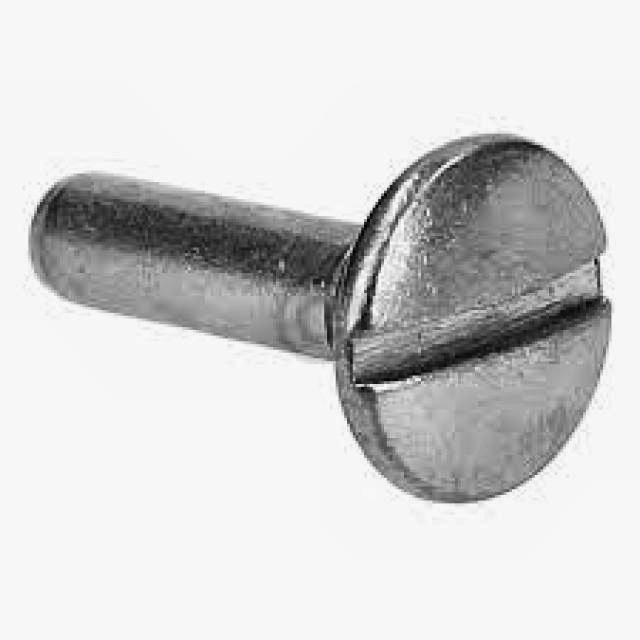duz: (335, 129, 613, 503)
